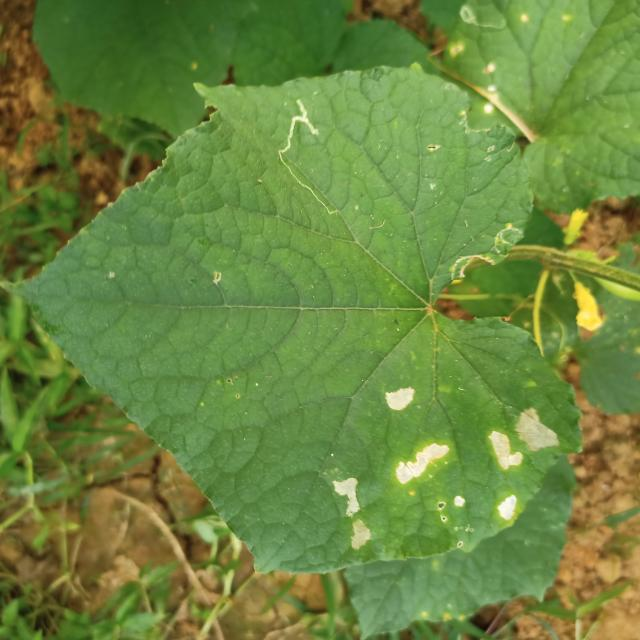disease_cucumber: (485, 408, 561, 530), (394, 436, 473, 524), (329, 472, 377, 558), (383, 380, 418, 420)
